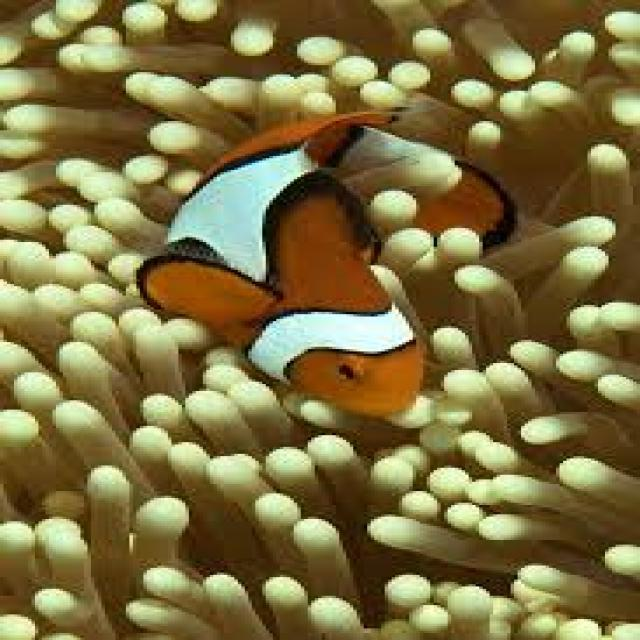ClownFish: (134, 93, 532, 457)
